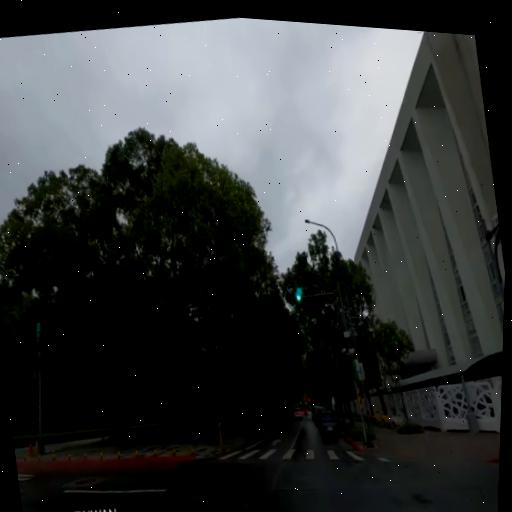Car: (315, 400, 344, 445), (291, 402, 304, 426)
